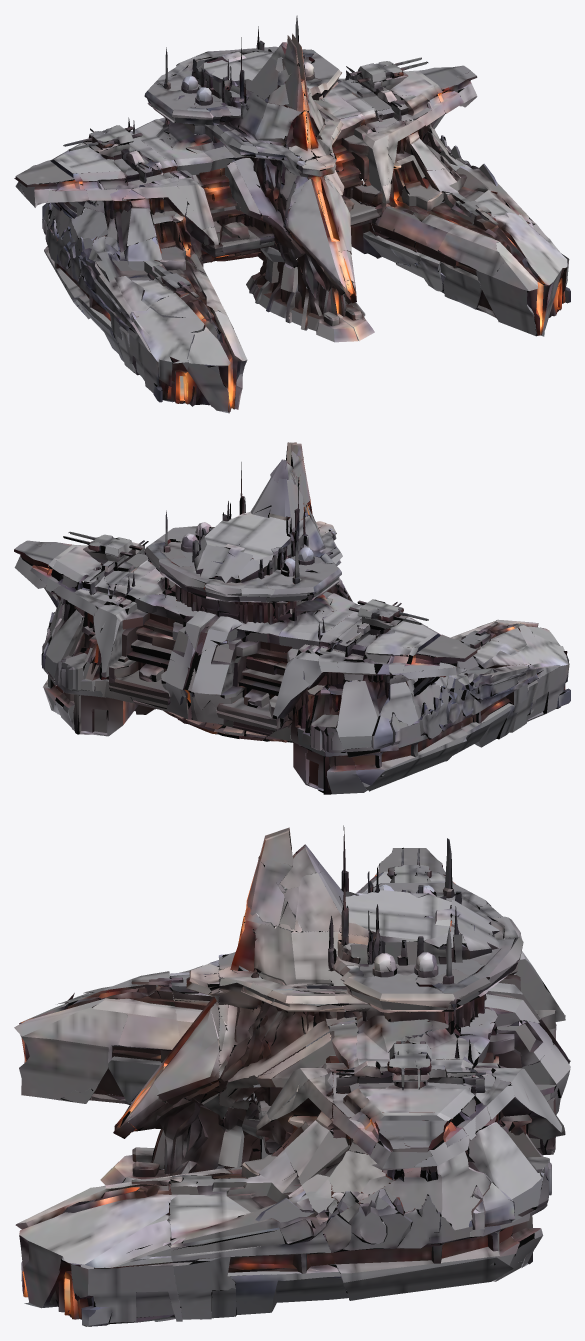
The model's file is helion-ark-v6-approved.glb.
The picture shows the model from 3 angles, top to bottom: view 1: azimuth 30°, elevation 25°; view 2: azimuth 150°, elevation 25°; view 3: azimuth 270°, elevation 25°; orthographic projection. The views are drawn at different scales.
Visible parts, largest first — view 1: ark_hull, ark_bridge_shutter_a, ark_radiator_left, ark_radiator_right, ark_bridge_shutter_b, ark_turret_left, ark_turret_right; view 2: ark_hull, ark_radiator_left, ark_radiator_right, ark_bridge_shutter_a, ark_turret_left, ark_turret_right; view 3: ark_hull, ark_bridge_shutter_b, ark_radiator_right, ark_turret_right, ark_turret_left.
Boxes of the visible parts, <box> form: ark_hull: <box>14,15,570,413</box>; ark_bridge_shutter_a: <box>221,85,315,249</box>; ark_radiator_left: <box>53,126,176,213</box>; ark_radiator_right: <box>331,57,444,135</box>; ark_bridge_shutter_b: <box>305,87,346,212</box>; ark_turret_left: <box>83,125,136,154</box>; ark_turret_right: <box>356,61,408,92</box>; ark_hull: <box>14,442,570,794</box>; ark_radiator_left: <box>319,600,437,684</box>; ark_radiator_right: <box>45,531,155,608</box>; ark_bridge_shutter_a: <box>292,499,347,640</box>; ark_turret_left: <box>355,599,408,628</box>; ark_turret_right: <box>82,534,135,566</box>; ark_hull: <box>14,825,570,1326</box>; ark_bridge_shutter_b: <box>218,920,368,1112</box>; ark_radiator_right: <box>332,1041,476,1153</box>; ark_turret_right: <box>375,1044,445,1081</box>; ark_turret_left: <box>387,861,431,882</box>.
Bounding box in the file's own units: 9.5 × 5.46 × 7.43.
4 materials, 1 textured.
